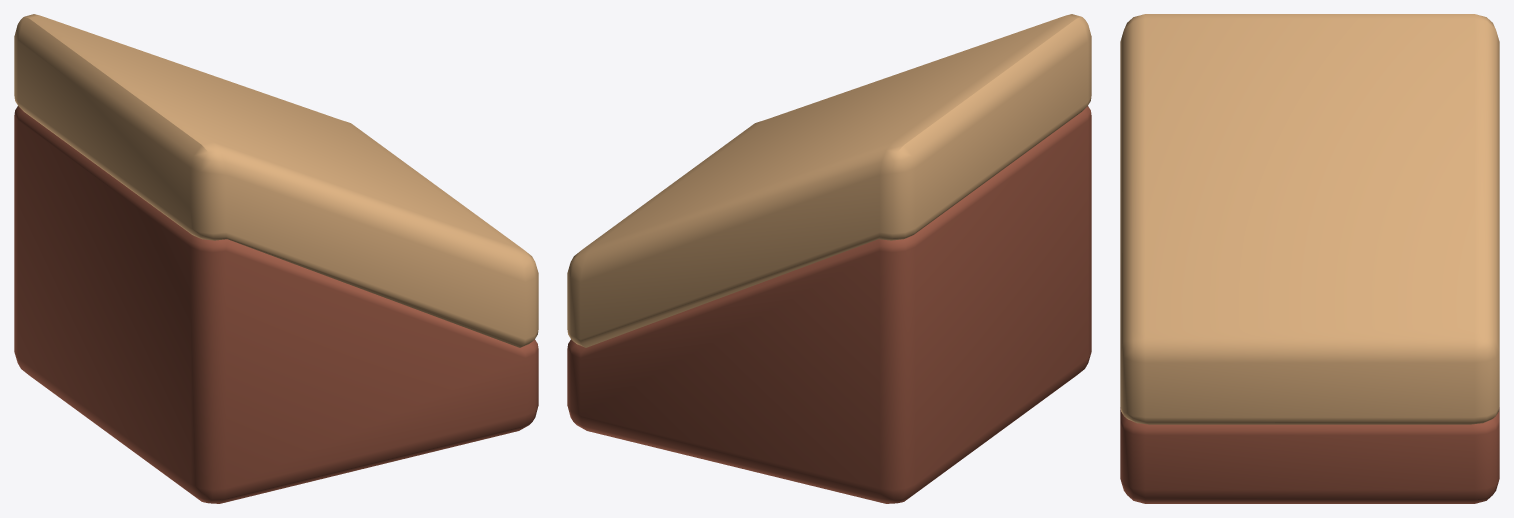
The model's file is tileSlopeLowHigh_desert-col.glb.
3 renders of one model, left to right at view 1: azimuth 30°, elevation 25°; view 2: azimuth 150°, elevation 25°; view 3: azimuth 270°, elevation 25°, orthographic. The views are drawn at different scales.
Parts seen in each view (by area): view 1: tileSlopeLowHigh_desert-col; view 2: tileSlopeLowHigh_desert-col; view 3: tileSlopeLowHigh_desert-col.
Boxes of the visible parts, x1=… form: tileSlopeLowHigh_desert-col: x1=14, y1=14, x2=538, y2=503; tileSlopeLowHigh_desert-col: x1=567, y1=14, x2=1091, y2=503; tileSlopeLowHigh_desert-col: x1=1120, y1=14, x2=1499, y2=503.
Size of the model in its own units: 2 by 2 by 2.
